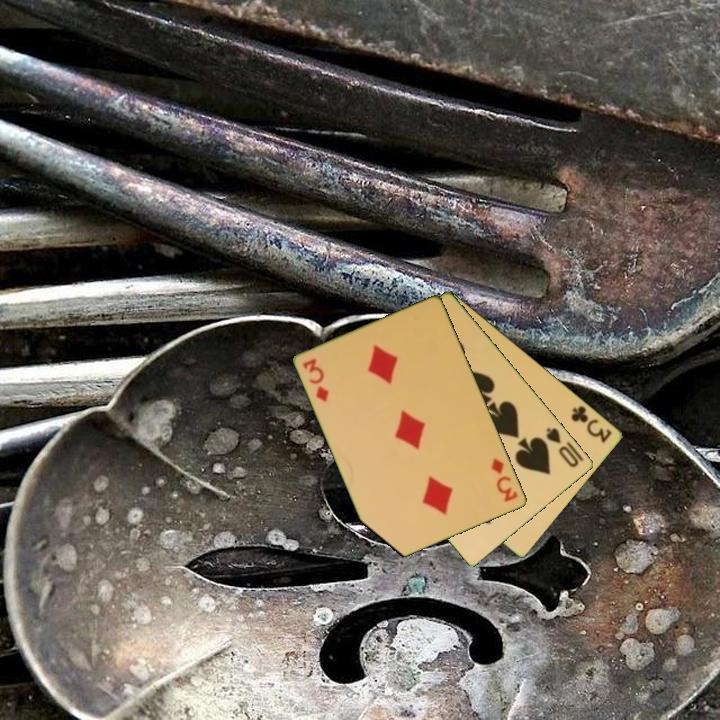10s: (543, 424, 582, 470)
3c: (568, 402, 615, 446)
3d: (488, 454, 521, 505), (300, 355, 332, 405)
